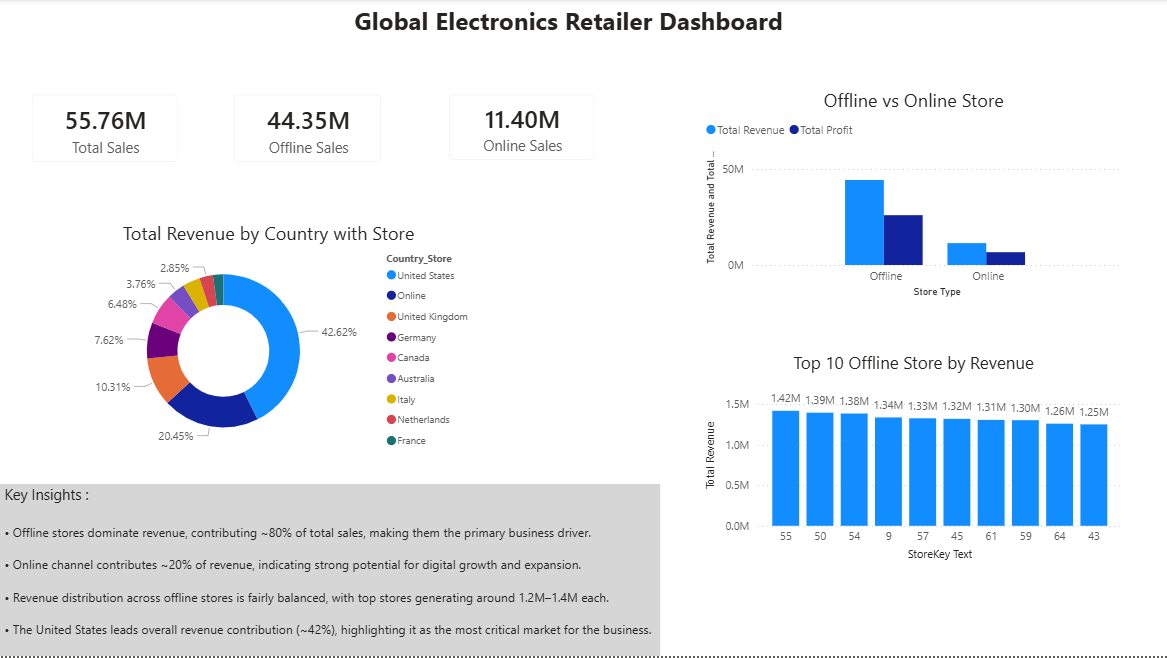

The dashboard page shown, as its layout file describes it:
{"tool":"powerbi","page":{"name":"Page 4","canvas":[1280,720],"ordinal":3},"visuals":[{"type":"textbox","box":[384.1,0,511.8,49.4],"z":0},{"type":"clusteredColumnChart","title":"Top 10 Offline Store by Revenue","fields":{"Category":["Global_Electronics_Retailers_master_dataset.StoreKey Text"],"Y":["Global_Electronics_Retailers_master_dataset.Total Revenue"]},"box":[768.2,384.8,465.6,235.5],"z":1000},{"type":"donutChart","title":"Total Revenue by Country with Store","fields":{"Category":["Global_Electronics_Retailers_master_dataset.Country_Store"],"Y":["Global_Electronics_Retailers_master_dataset.Total Revenue"]},"box":[61.6,242.4,465.6,260.2],"z":2000},{"type":"clusteredColumnChart","title":"Offline vs Online Store","fields":{"Category":["Global_Electronics_Retailers_master_dataset.Store Type"],"Y":["Global_Electronics_Retailers_master_dataset.Total Revenue","Global_Electronics_Retailers_master_dataset.Total Profit"]},"box":[768.2,97.2,465.6,234.1],"z":3000},{"type":"cardVisual","fields":{"Data":["Global_Electronics_Retailers_master_dataset.Total Sales"]},"box":[17.8,87.6,194.4,108.2],"z":4000},{"type":"cardVisual","fields":{"Data":["Global_Electronics_Retailers_master_dataset.Offline Sales"]},"box":[239.6,87.6,195.8,108.2],"z":5000},{"type":"cardVisual","fields":{"Data":["Global_Electronics_Retailers_master_dataset.Online Sales"]},"box":[475.1,87.6,193.1,106.8],"z":6000},{"type":"textbox","title":"Key Insights :","box":[0,531.3,723,189],"z":7000}]}

Visuals, with their boxes in screenshot pixels (x1, y1, x2, y2), scaled from the page's 1280x720 canvas onto the 1167x658 screenshot:
textbox: (left=350, top=0, right=817, bottom=45)
"Top 10 Offline Store by Revenue" clusteredColumnChart: (left=700, top=352, right=1125, bottom=567)
"Total Revenue by Country with Store" donutChart: (left=56, top=222, right=481, bottom=459)
"Offline vs Online Store" clusteredColumnChart: (left=700, top=89, right=1125, bottom=303)
cardVisual - Global_Electronics_Retailers_master_dataset.Total Sales: (left=16, top=80, right=193, bottom=179)
cardVisual - Global_Electronics_Retailers_master_dataset.Offline Sales: (left=218, top=80, right=397, bottom=179)
cardVisual - Global_Electronics_Retailers_master_dataset.Online Sales: (left=433, top=80, right=609, bottom=178)
"Key Insights :" textbox: (left=0, top=486, right=659, bottom=657)
